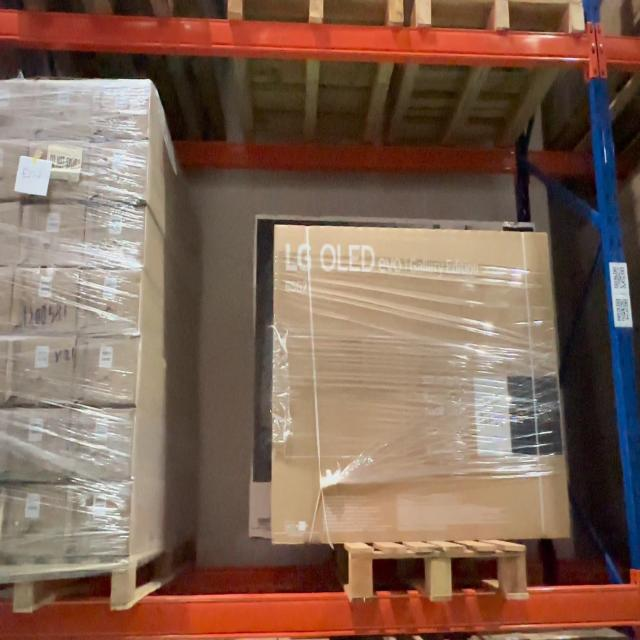box: (275, 234, 548, 539), (5, 409, 70, 482), (68, 482, 130, 557), (11, 340, 72, 408), (72, 409, 130, 479), (77, 338, 136, 404), (22, 203, 82, 266), (80, 270, 139, 334), (16, 268, 74, 330), (8, 491, 64, 554), (86, 207, 144, 266), (30, 140, 85, 200), (37, 79, 89, 142), (91, 143, 147, 201), (92, 82, 148, 139)
